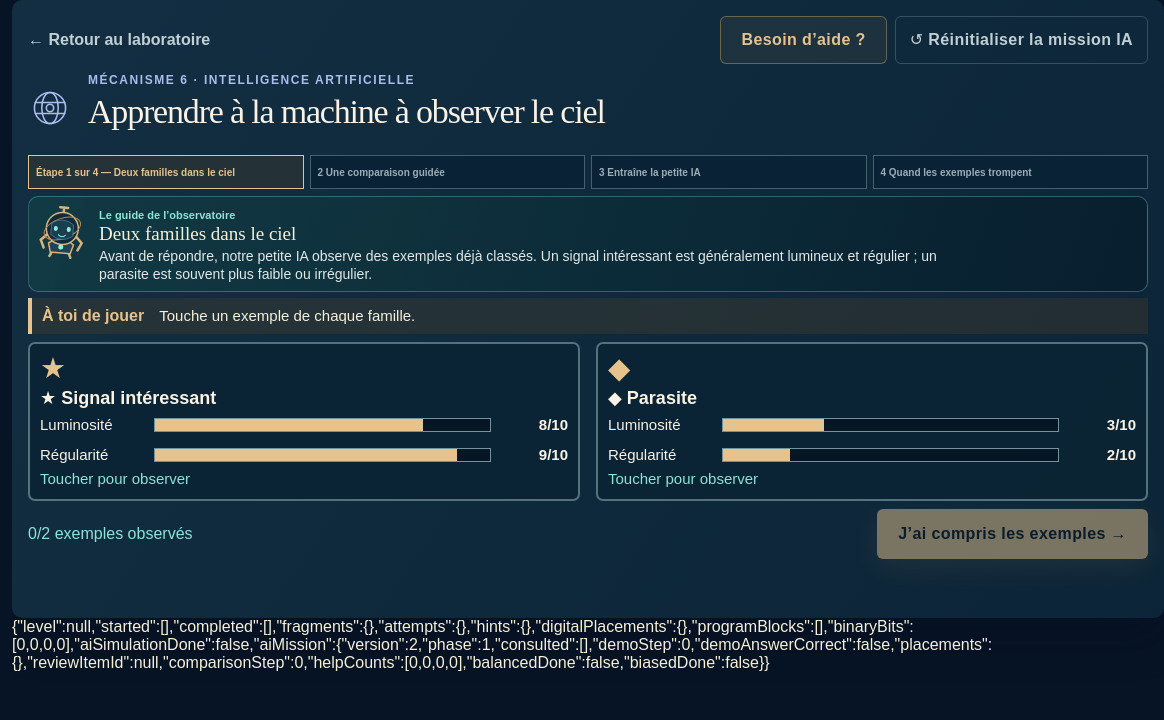
Test case: mission IA guidée › ouvre à l’étape 1 avec deux exemples seulement et une aide contextuelle
Expected: the element labelled "Étape 1 sur 4" is shown, [28,155,1148,189]
Expected: the button "J’ai compris les exemples →" is disabled, [877,510,1148,560]
Step 1. Click the button "Besoin d’aide ?" → (804, 40), box [720,16,887,64]
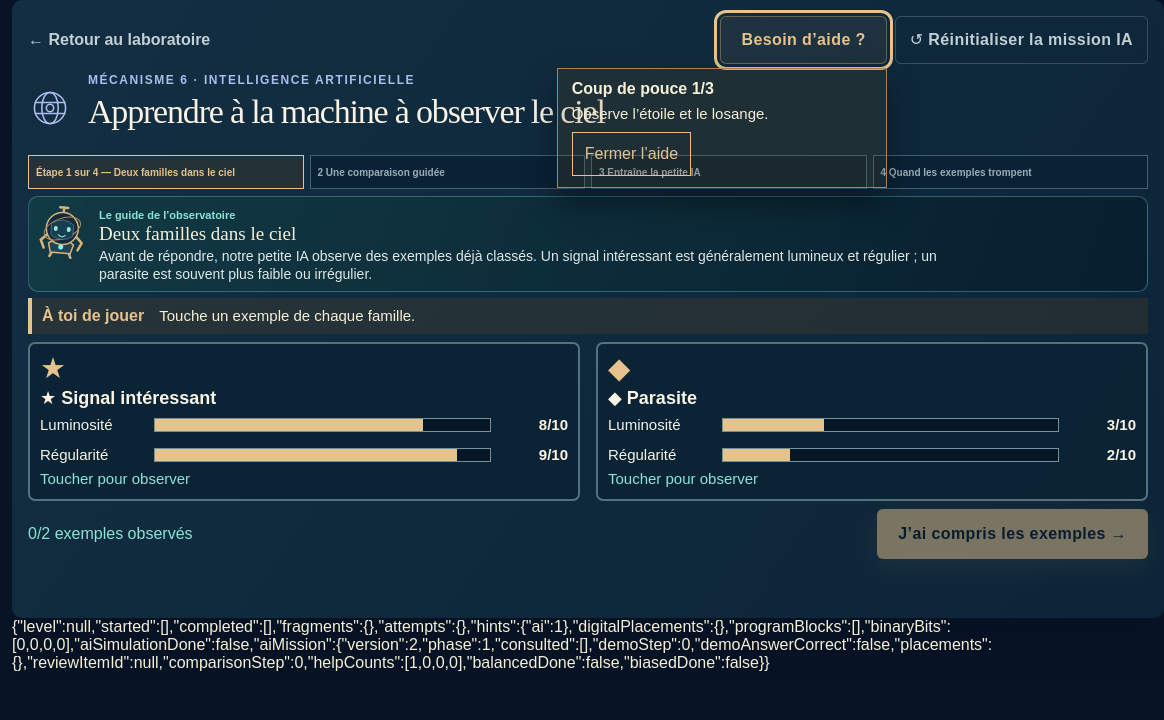
Now the text "Observe l’étoile et le losange." is shown, box [572,105,768,122]
Step 2. Click the button that starts with "★ Signal intéressant" → (304, 422), box [28,342,580,502]
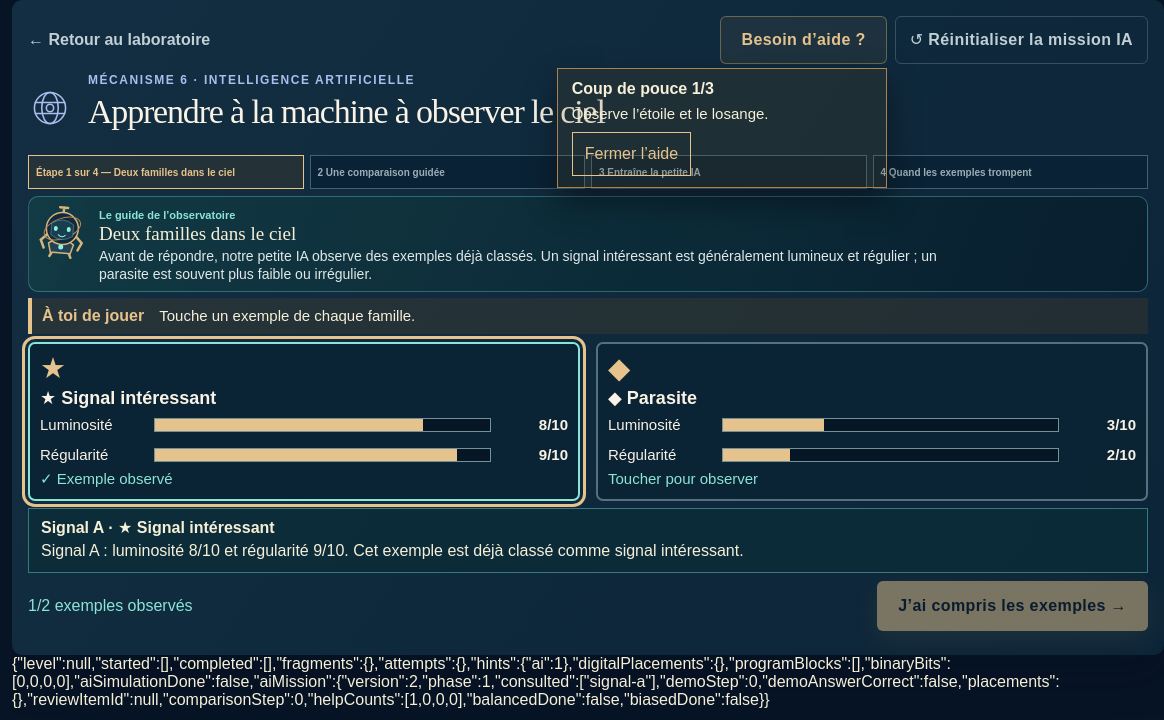
Step 3. Click the button that starts with "◆ Parasite" → (872, 422), box [596,342,1148,502]
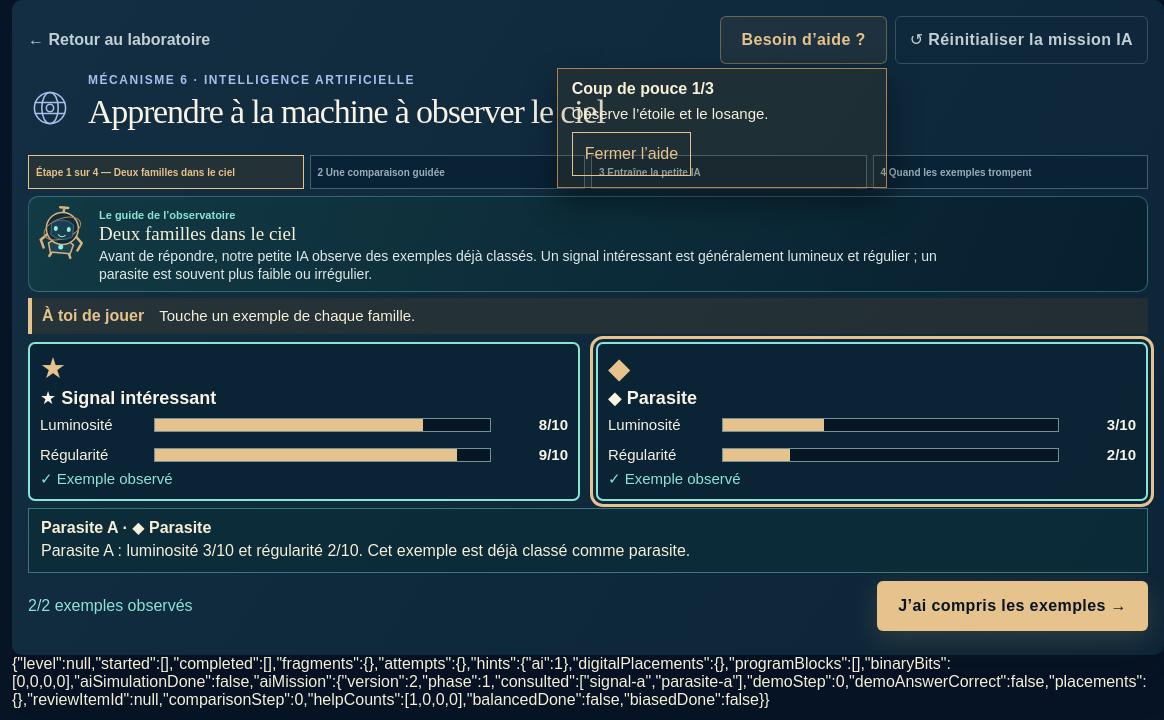
Step 4. Click the button "J’ai compris les exemples →" → (1013, 606), box [877,581,1148,631]
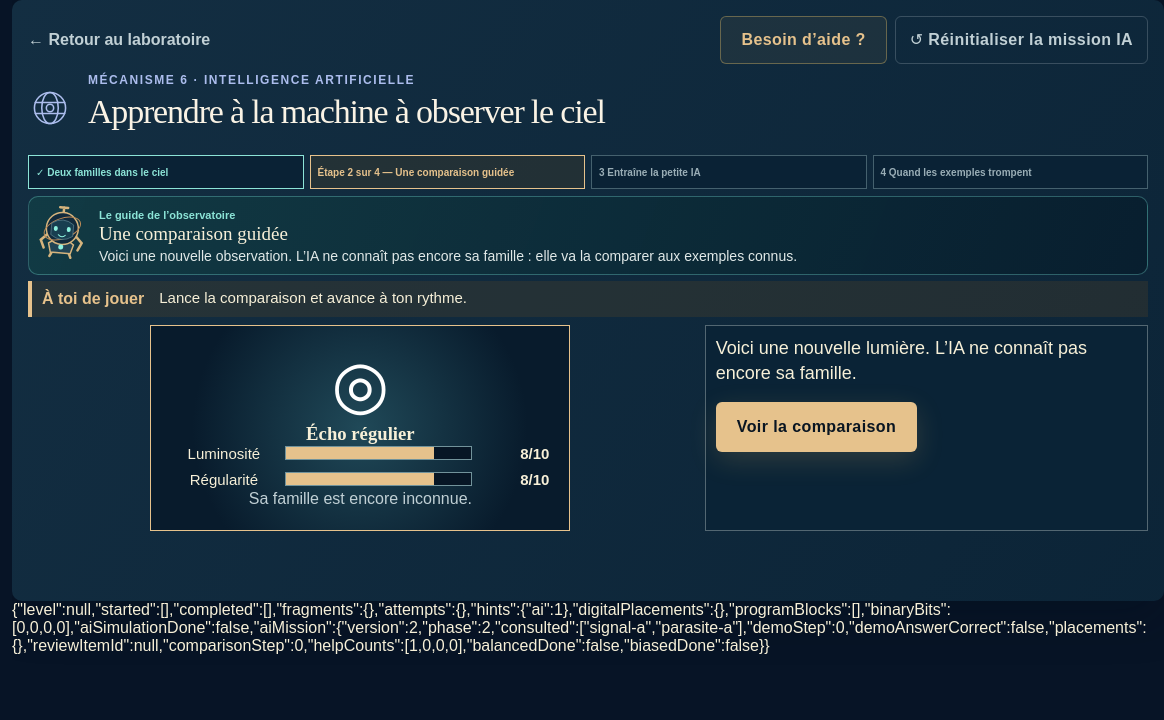
Now the element labelled "Étape 2 sur 4" is shown, box [28,155,1148,189]
